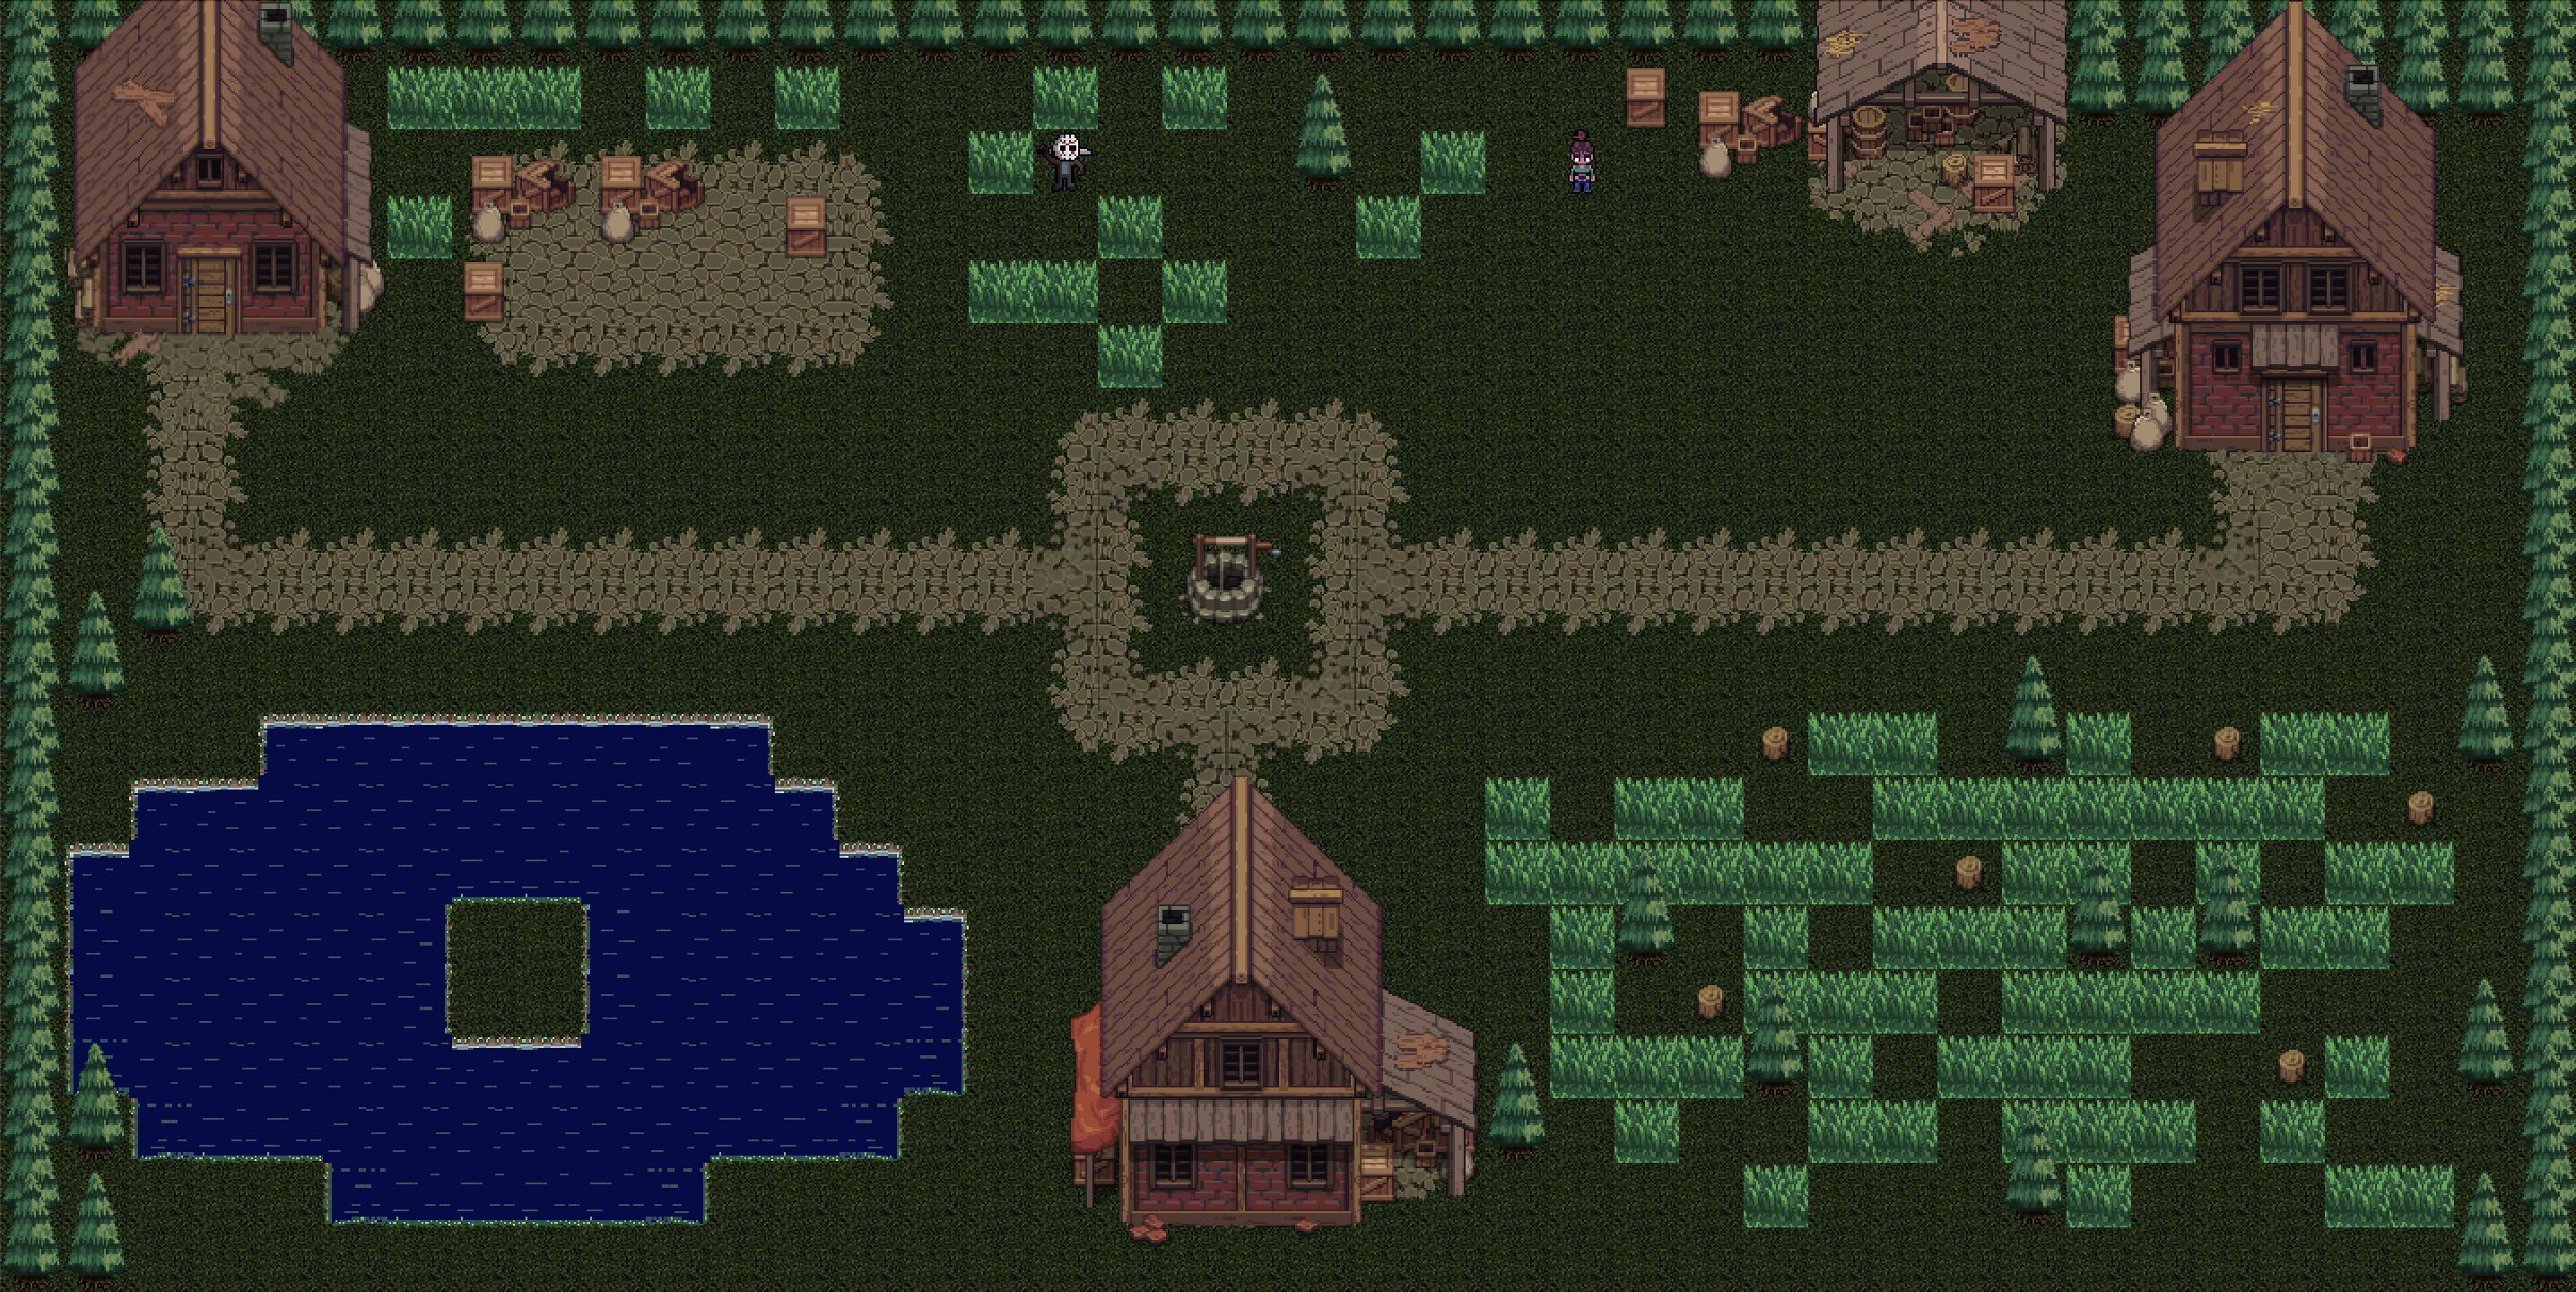Hide: (1138, 493, 1308, 662), (1902, 168, 2031, 320), (751, 170, 863, 285), (430, 239, 535, 346), (1601, 51, 1692, 138)
Interaction: (237, 690, 792, 755), (893, 865, 1000, 1173), (303, 1201, 784, 1249), (697, 1135, 942, 1206), (140, 1139, 346, 1205), (120, 728, 296, 801), (825, 794, 908, 865), (71, 799, 153, 870), (764, 730, 845, 801)
Jason: (1039, 129, 1097, 191)
Obstacle: (2067, 91, 2510, 514), (1038, 906, 1484, 1292), (66, 63, 389, 450), (1804, 0, 2069, 265), (591, 152, 707, 249), (468, 152, 576, 250), (1693, 87, 1800, 181), (2000, 712, 2069, 776), (1673, 969, 1741, 1033), (0, 593, 66, 658), (2510, 778, 2576, 842), (2510, 587, 2576, 651), (128, 585, 194, 649), (2390, 773, 2451, 842), (1937, 840, 2001, 905), (2, 64, 66, 129), (1743, 712, 1808, 775), (2261, 1032, 2324, 1098), (66, 1229, 132, 1292), (0, 1229, 66, 1292), (0, 1167, 66, 1229), (0, 1102, 66, 1165), (257, 0, 323, 63), (0, 1038, 66, 1101), (389, 0, 455, 63), (0, 976, 66, 1038), (0, 911, 66, 974), (0, 849, 66, 911), (519, 0, 585, 63), (0, 786, 66, 849), (646, 0, 712, 63), (0, 722, 66, 784), (0, 658, 66, 720), (777, 0, 843, 63), (0, 531, 66, 593), (840, 0, 906, 63), (904, 0, 970, 63), (0, 468, 66, 531), (968, 0, 1034, 63), (0, 404, 66, 466), (0, 341, 66, 404), (1099, 0, 1164, 63), (0, 277, 66, 339), (1163, 0, 1229, 63), (0, 203, 66, 265), (1227, 0, 1293, 63), (1291, 0, 1357, 63), (1356, 0, 1421, 63), (1421, 0, 1487, 63), (2067, 64, 2133, 127), (2067, 0, 2133, 63), (2133, 0, 2199, 63), (2199, 0, 2265, 63), (2324, 0, 2390, 63), (2390, 0, 2456, 63), (2390, 63, 2456, 125), (2456, 63, 2522, 125), (2510, 1229, 2576, 1292), (2510, 1159, 2576, 1221), (2510, 1096, 2576, 1159), (2510, 969, 2576, 1032), (2510, 1032, 2576, 1094), (2510, 461, 2576, 524), (2510, 905, 2576, 967), (2510, 63, 2576, 125), (2510, 842, 2576, 905), (2510, 397, 2576, 460), (2510, 0, 2576, 63), (2510, 651, 2576, 714), (2510, 715, 2576, 778), (2510, 196, 2576, 259), (2510, 335, 2576, 397), (2510, 270, 2576, 333), (2510, 524, 2576, 587), (2510, 130, 2576, 193), (63, 654, 128, 717), (66, 1098, 132, 1160), (1293, 132, 1357, 194), (68, 0, 132, 63), (324, 0, 389, 63), (455, 0, 519, 63), (583, 0, 647, 63), (712, 0, 776, 63), (1034, 0, 1099, 63), (2, 137, 66, 199), (2, 0, 66, 63), (1487, 0, 1552, 63), (1552, 0, 1616, 63), (1617, 0, 1682, 63), (1682, 0, 1746, 63), (1746, 0, 1810, 63), (2133, 64, 2197, 127), (2457, 0, 2522, 63), (1743, 1033, 1808, 1094), (1487, 1096, 1548, 1162), (2452, 714, 2520, 773), (2001, 1163, 2065, 1224), (2069, 905, 2130, 969), (2199, 903, 2260, 967), (2457, 1037, 2522, 1098), (1616, 903, 1675, 969), (2199, 714, 2258, 776), (2456, 1233, 2520, 1290)
Slow: (328, 735, 445, 1208), (595, 735, 702, 1210), (140, 804, 268, 1145), (702, 735, 769, 1149), (268, 735, 328, 1147), (445, 733, 591, 893), (771, 798, 838, 1144), (443, 1056, 593, 1211), (840, 864, 894, 1144), (79, 859, 140, 1093), (904, 926, 954, 1086), (385, 64, 451, 130), (450, 64, 516, 130), (387, 194, 453, 259), (516, 64, 580, 130), (646, 66, 710, 132), (1486, 842, 1552, 906), (1550, 969, 1616, 1033), (1677, 1035, 1743, 1099), (1743, 1163, 1808, 1228), (1871, 1099, 1937, 1163), (1808, 969, 1874, 1033), (1871, 969, 1937, 1033), (2001, 1033, 2067, 1098), (2065, 969, 2131, 1033), (1808, 712, 1874, 776), (1873, 712, 1939, 776), (2131, 905, 2197, 969), (2326, 905, 2392, 969), (2388, 840, 2454, 905), (2324, 1032, 2390, 1096), (776, 66, 840, 130), (1552, 842, 1616, 906), (1616, 840, 1680, 905), (1744, 840, 1808, 905), (1614, 1035, 1678, 1099), (1808, 1099, 1873, 1163), (1939, 1033, 2003, 1098), (2067, 1162, 2131, 1226), (2194, 969, 2258, 1033), (2261, 776, 2326, 840), (1486, 778, 1552, 840), (1614, 778, 1680, 840), (1678, 778, 1744, 840), (1680, 840, 1746, 903), (1808, 840, 1874, 903), (1550, 1037, 1616, 1099), (1614, 1099, 1680, 1162), (1744, 971, 1810, 1033), (1744, 906, 1810, 969), (1937, 906, 2003, 969), (2001, 905, 2067, 967), (2000, 969, 2065, 1032), (2130, 971, 2196, 1033), (2131, 1101, 2197, 1163), (1873, 776, 1939, 839), (1937, 776, 2003, 839), (2001, 778, 2067, 840), (2065, 842, 2131, 905), (2067, 714, 2133, 776), (2133, 778, 2199, 840), (2197, 840, 2263, 903), (2260, 905, 2326, 967), (2324, 712, 2390, 775), (2260, 1099, 2326, 1162), (2324, 1165, 2390, 1228), (2390, 1163, 2456, 1226), (968, 130, 1033, 193), (967, 260, 1031, 323), (1033, 260, 1097, 323), (1099, 196, 1163, 259), (1163, 260, 1227, 323), (1099, 325, 1163, 387), (1034, 66, 1099, 129), (1163, 66, 1227, 129), (1357, 196, 1421, 259), (1421, 130, 1486, 193), (1550, 905, 1614, 967), (1808, 1033, 1873, 1096), (1871, 906, 1935, 969), (2069, 1033, 2133, 1096), (2003, 1101, 2067, 1163), (2067, 1101, 2131, 1163), (2001, 840, 2065, 903), (2069, 778, 2133, 840), (2197, 778, 2261, 840), (2326, 842, 2390, 905), (2260, 714, 2324, 776)
Victim: (1553, 127, 1612, 196)
